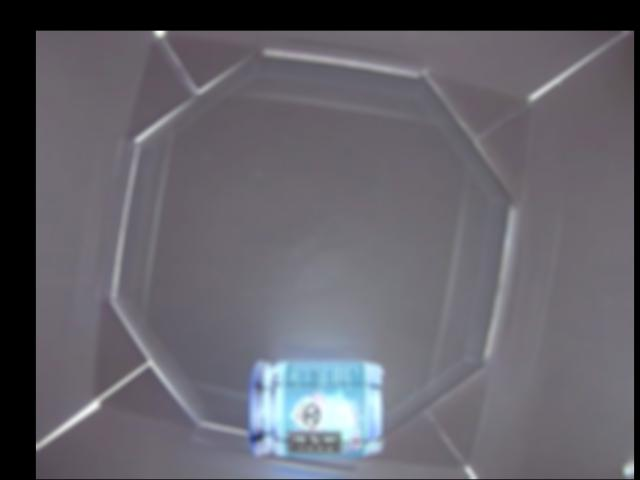Bottle: (248, 357, 384, 458)
